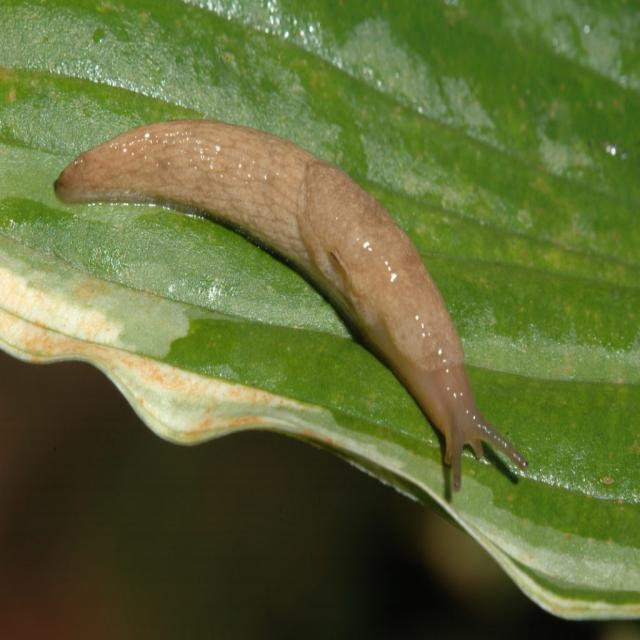slug: (51, 109, 528, 501)
